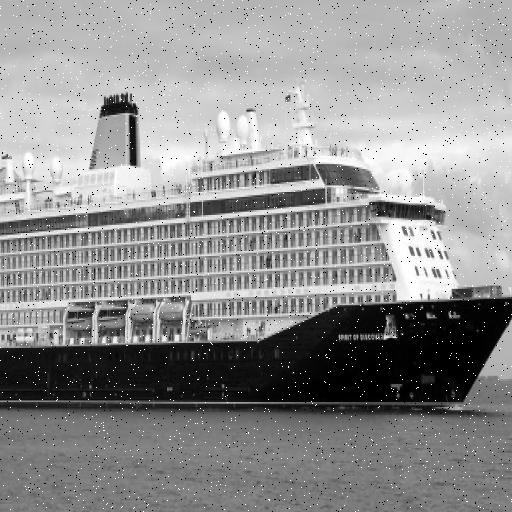cruises: (1, 73, 512, 423)
